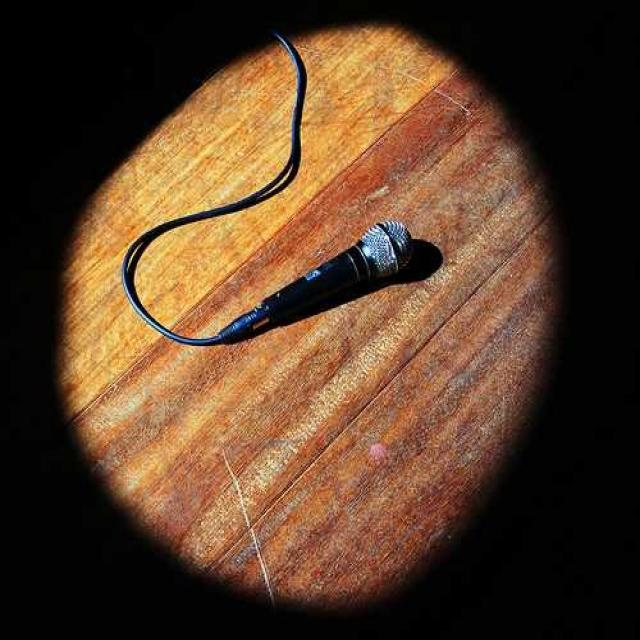microphone: (211, 214, 426, 345)
